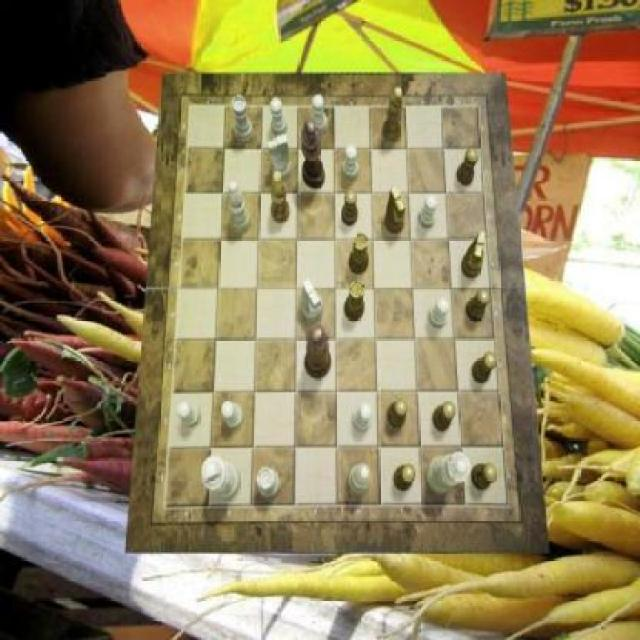bishop: (382, 88, 402, 144), (271, 171, 290, 223)
black-bishop: (300, 119, 325, 190)
black-king: (462, 232, 486, 280), (384, 187, 406, 236)
black-knight: (455, 148, 478, 186), (466, 289, 491, 323), (472, 352, 497, 385), (471, 463, 497, 491), (434, 402, 457, 432), (388, 398, 408, 428), (394, 465, 416, 492), (342, 190, 358, 226)
black-pawn: (304, 324, 332, 380)
black-queen: (349, 232, 369, 275), (346, 280, 366, 322)
black-rook: (228, 180, 250, 234), (348, 463, 370, 495)
white-bishop: (202, 455, 242, 501)
white-king: (268, 134, 292, 180), (302, 280, 322, 322)
white-knight: (310, 96, 328, 136), (418, 194, 438, 228), (271, 98, 288, 137), (429, 297, 450, 328), (177, 401, 201, 427), (221, 402, 244, 429), (343, 144, 360, 180), (354, 402, 374, 432)
white-pawn: (426, 451, 471, 493)
white-queen: (232, 95, 255, 143), (257, 468, 280, 498)
